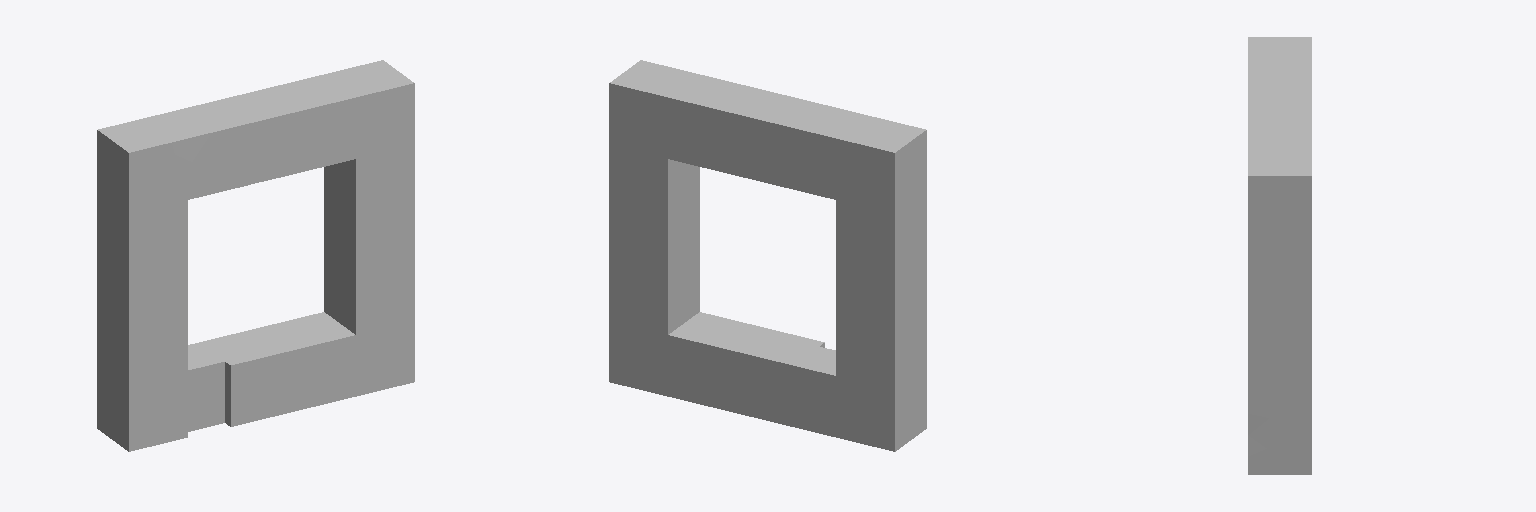
Rendered from dual_tiny.dt.tcp.obj.
3 views of the same model, side by side, from view 1: azimuth 30°, elevation 25°; view 2: azimuth 150°, elevation 25°; view 3: azimuth 270°, elevation 25° (orthographic).
Bounding box in the file's own units: 23.8 × 23.8 × 4.57.